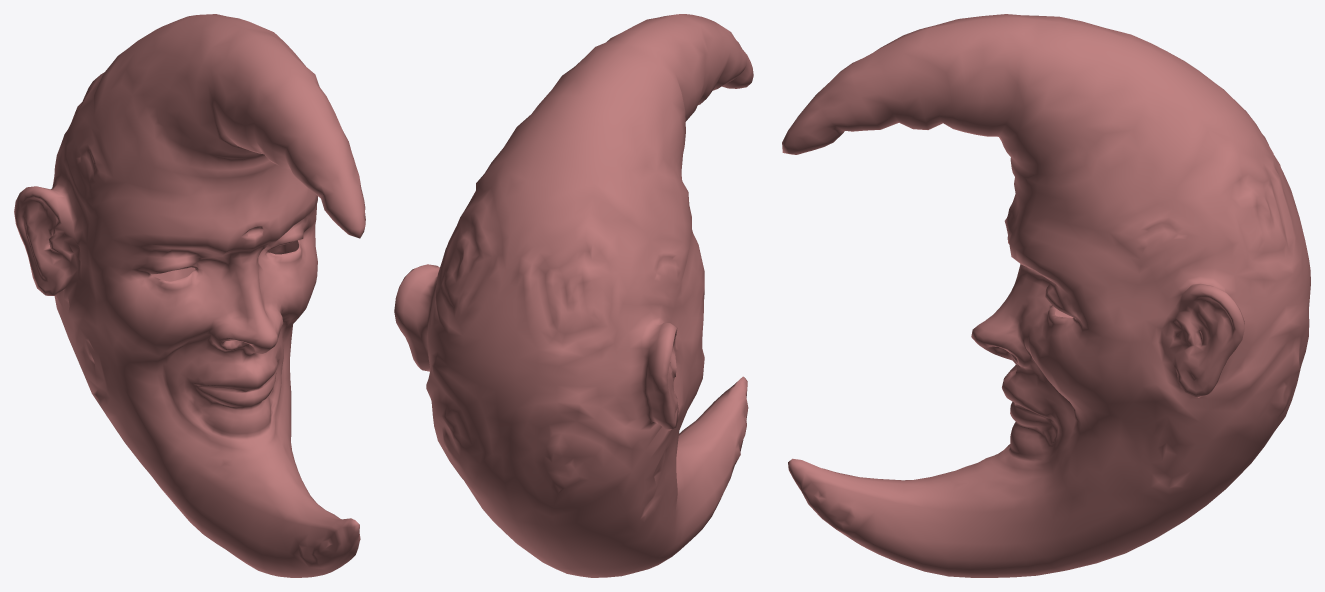
File: maantje.fbx
3 views of the same model, side by side, from view 1: azimuth 30°, elevation 25°; view 2: azimuth 150°, elevation 25°; view 3: azimuth 270°, elevation 25° (orthographic). The views are drawn at different scales.
Parts seen in each view (by area): view 1: maantje_retopo; view 2: maantje_retopo; view 3: maantje_retopo.
Part boxes in pixels (left/top/right/bottom): maantje_retopo: left=14, top=14, right=365, bottom=577; maantje_retopo: left=394, top=14, right=753, bottom=577; maantje_retopo: left=782, top=14, right=1310, bottom=577.
Size of the model in its own units: 2.18 by 4.03 by 3.48.
